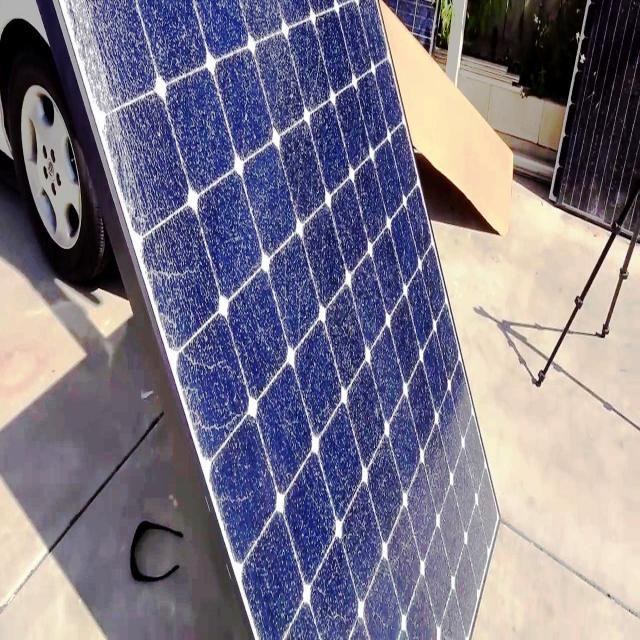faulty: (59, 5, 504, 640)
